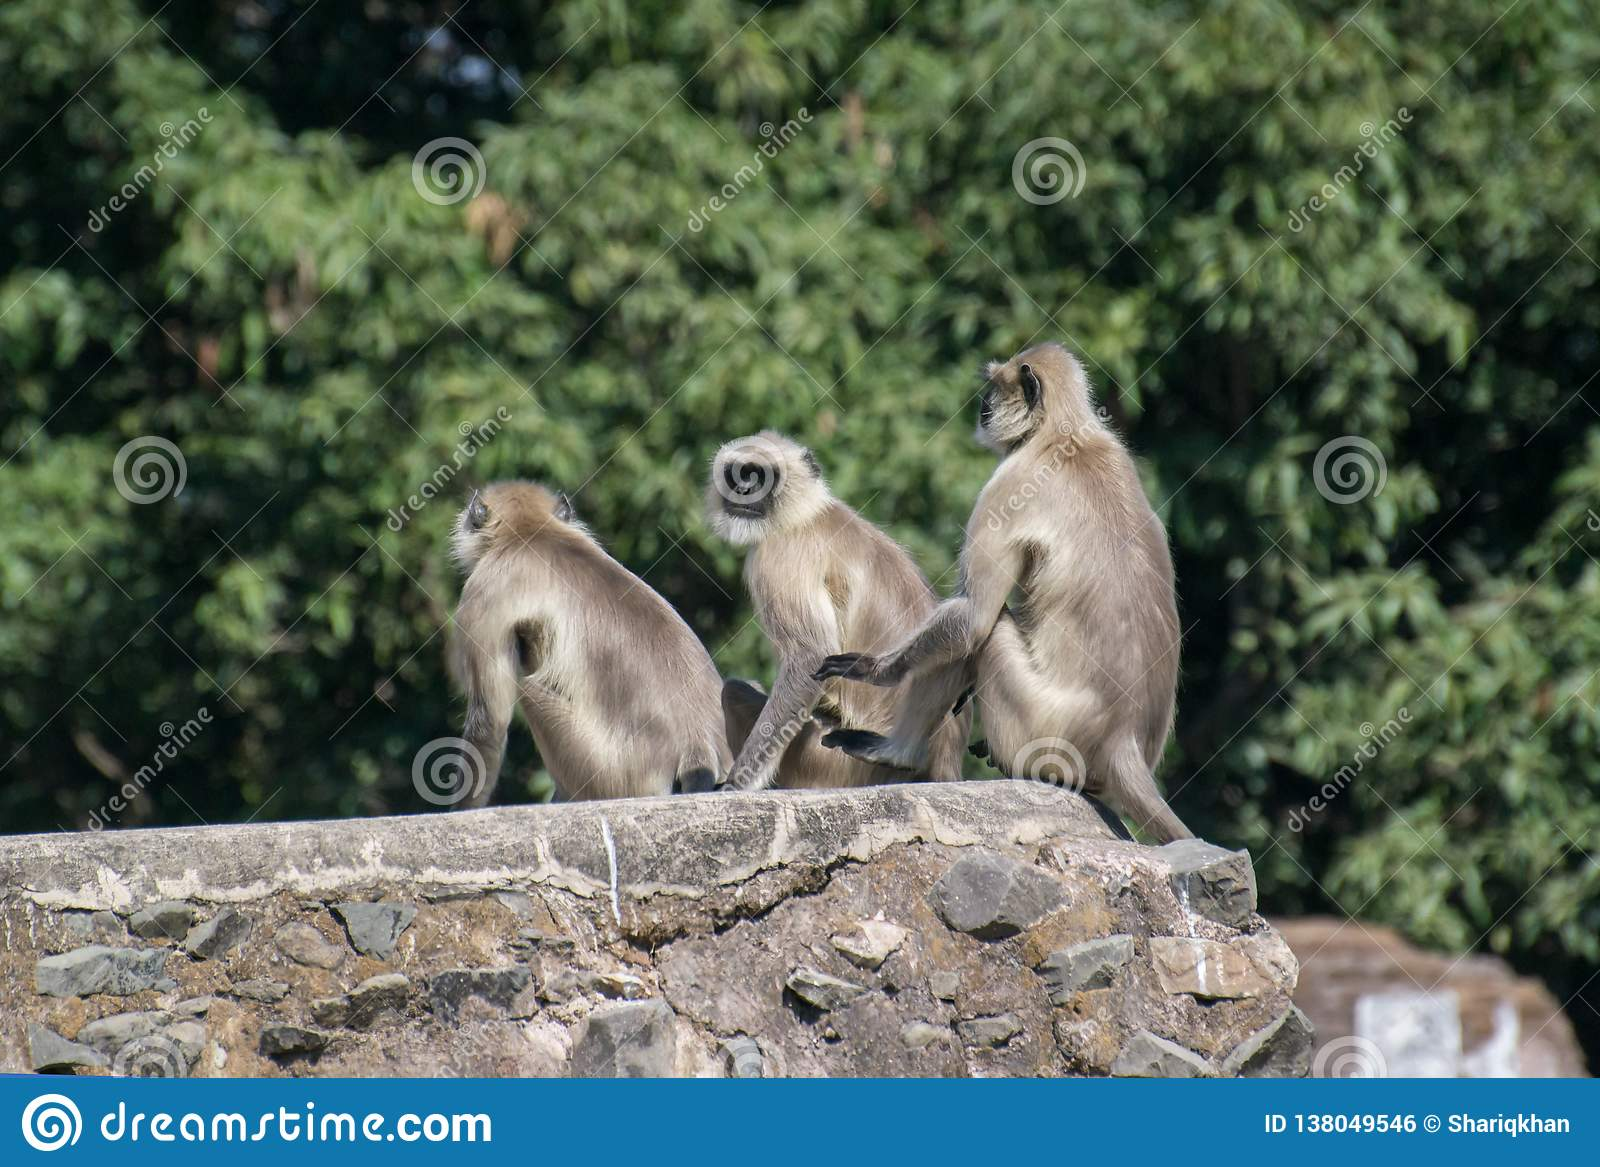monkey: (817, 303, 1277, 871), (398, 444, 740, 830), (673, 403, 969, 848)
